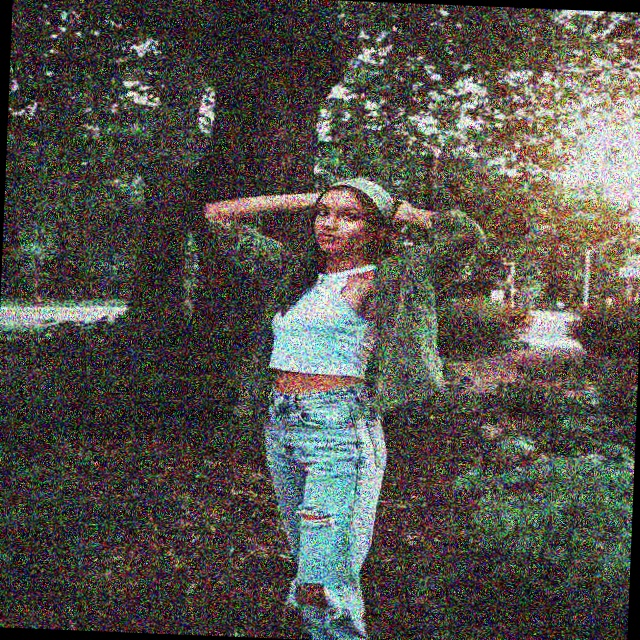Crop_Top: (263, 320, 377, 400)
ripped_pants: (247, 382, 395, 640)
